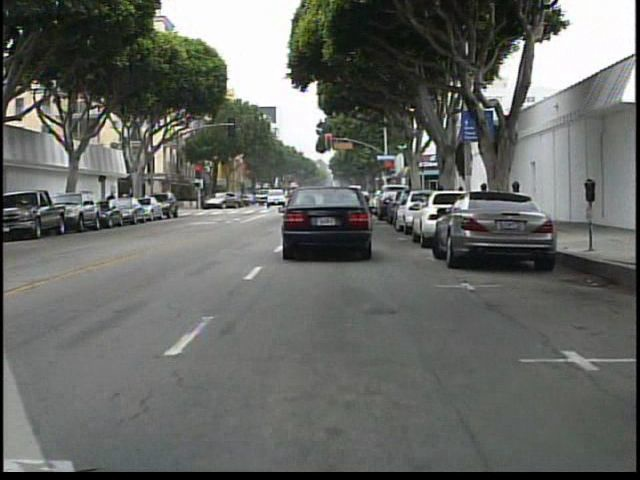person: (106, 189, 121, 220), (197, 189, 212, 213)
